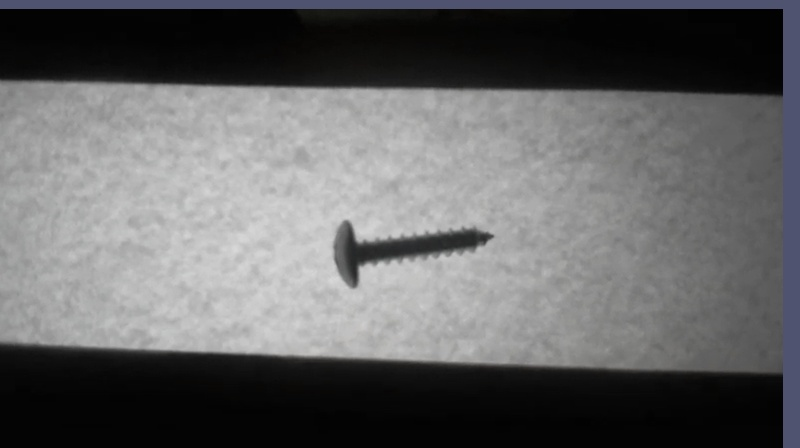S003: (329, 215, 500, 289)
